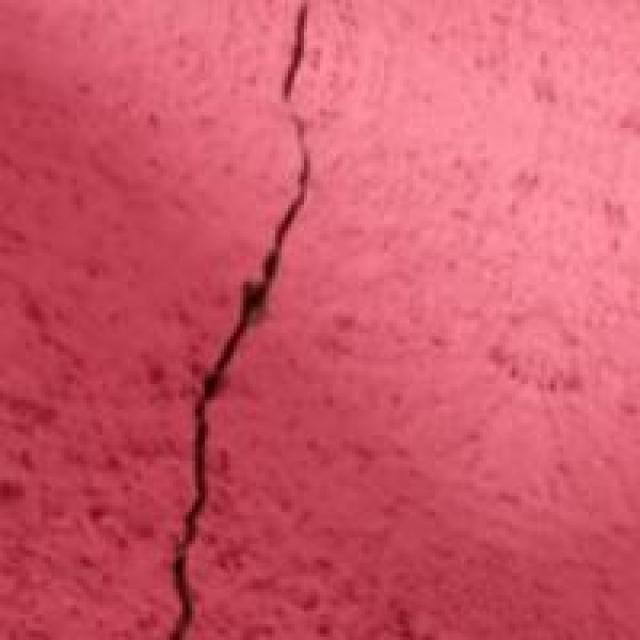Crack: (141, 0, 397, 637)
